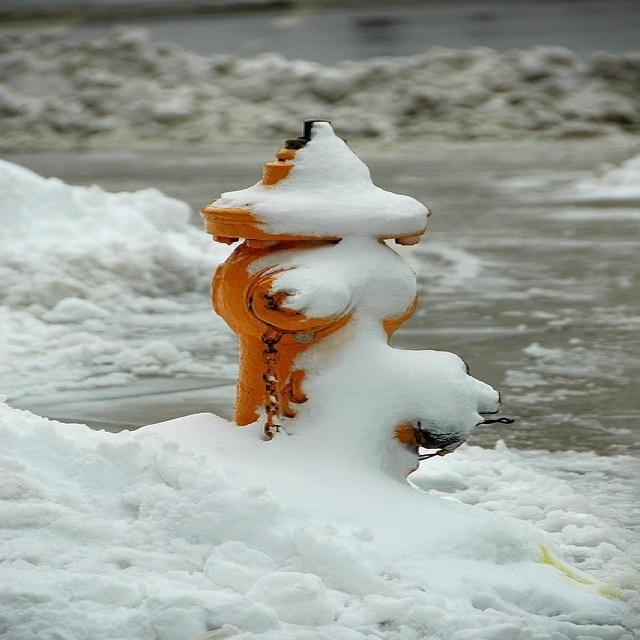fire_hydrant: (208, 114, 515, 483)
